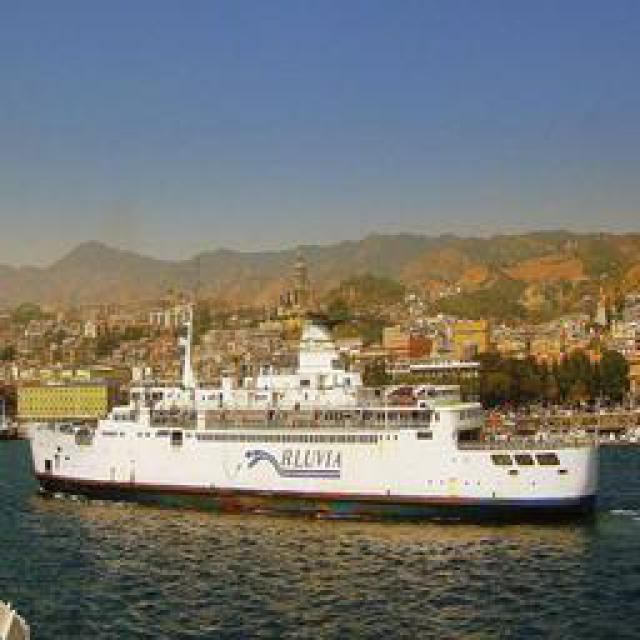Ship: (18, 343, 626, 521)
